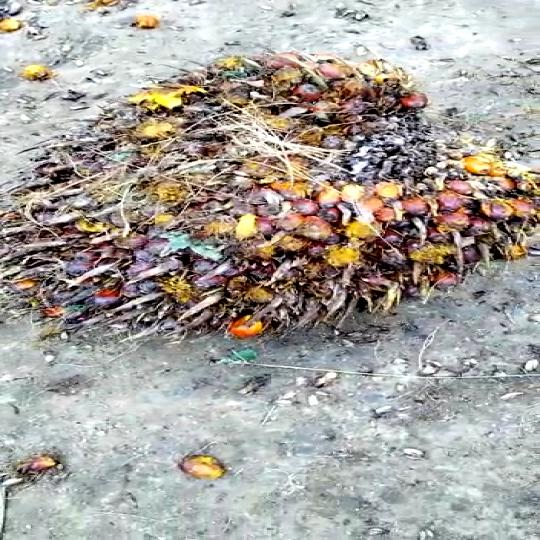masak: (0, 53, 540, 353)
